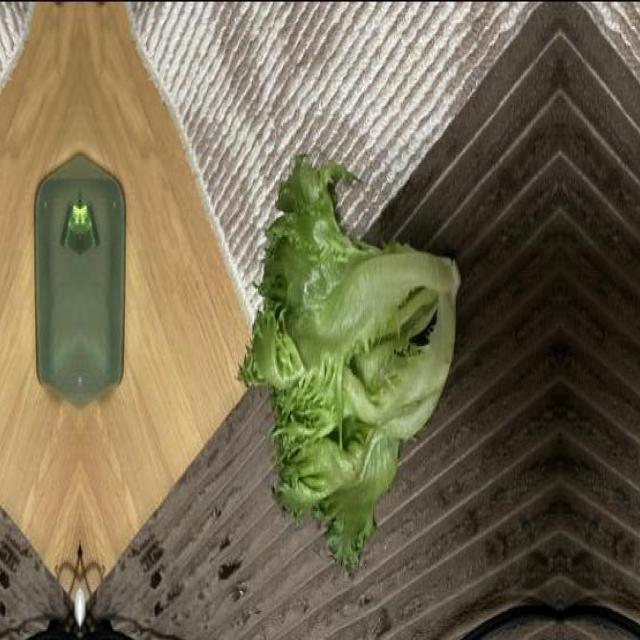healthy: (243, 145, 463, 581)
